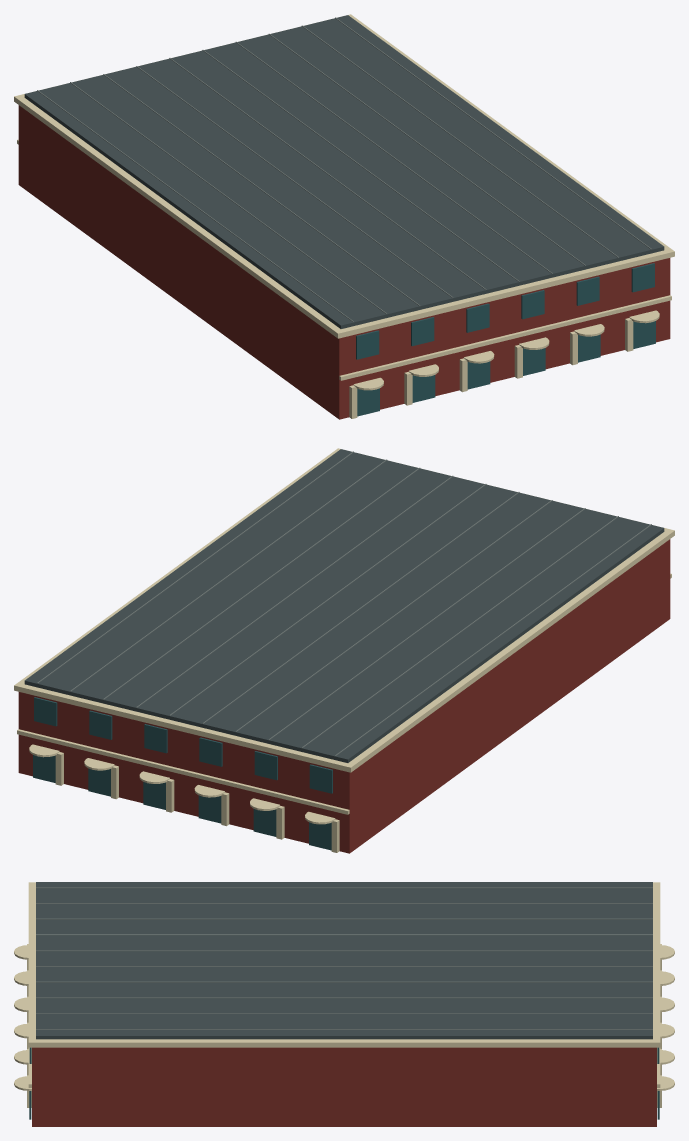
3 renders of one model, top to bottom at view 1: azimuth 30°, elevation 25°; view 2: azimuth 150°, elevation 25°; view 3: azimuth 270°, elevation 25°, orthographic. The views are drawn at different scales.
Parts seen in each view (by area): view 1: RoofDeck, HallMass, Parapet, RoofSeams, UpperWindows, ArcadeRecess, StoreyCornice, ArcadePiers, ArcadeArch; view 2: RoofDeck, HallMass, Parapet, RoofSeams, UpperWindows, ArcadeRecess, StoreyCornice, ArcadePiers, ArcadeArch; view 3: RoofDeck, HallMass, RoofSeams, Parapet, ArcadeArch, ArcadePiers.
Boxes of the visible parts, x1,y1,x2,y2 form: RoofDeck: [24, 15, 664, 328]; HallMass: [18, 105, 670, 419]; Parapet: [14, 14, 674, 338]; RoofSeams: [37, 17, 651, 322]; UpperWindows: [356, 263, 654, 359]; ArcadeRecess: [357, 321, 655, 416]; StoreyCornice: [17, 139, 671, 380]; ArcadePiers: [349, 318, 633, 418]; ArcadeArch: [353, 310, 659, 390]; RoofDeck: [24, 449, 664, 762]; HallMass: [18, 539, 670, 853]; Parapet: [14, 448, 674, 772]; RoofSeams: [37, 451, 651, 756]; UpperWindows: [34, 697, 332, 793]; ArcadeRecess: [33, 755, 331, 850]; StoreyCornice: [17, 573, 671, 814]; ArcadePiers: [55, 752, 339, 852]; ArcadeArch: [29, 744, 335, 824]; RoofDeck: [36, 882, 652, 1039]; HallMass: [32, 1047, 656, 1126]; RoofSeams: [36, 887, 652, 1029]; Parapet: [28, 882, 660, 1047]; ArcadeArch: [14, 945, 674, 1090]; ArcadePiers: [27, 944, 661, 1107].
Bounding box in the file's own units: 45.39 × 11.89 × 79.14.
